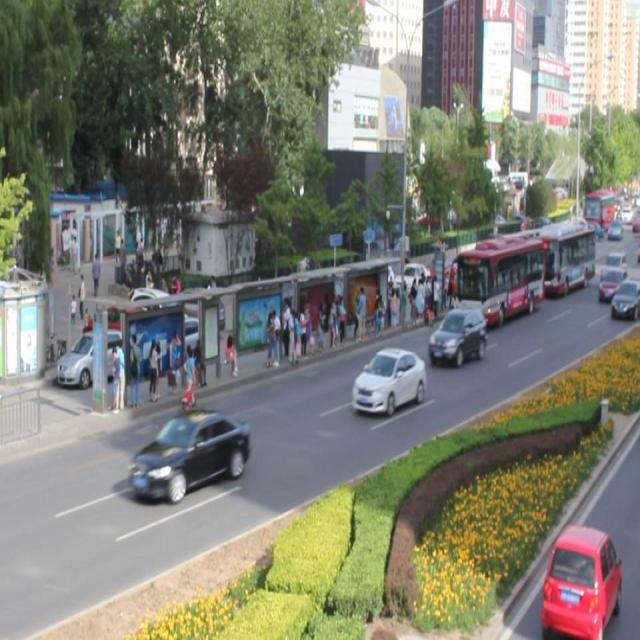car: (130, 408, 250, 500), (352, 346, 424, 415), (428, 307, 485, 364), (610, 279, 640, 318), (598, 267, 624, 302)
van: (447, 232, 538, 326), (524, 218, 592, 296)
